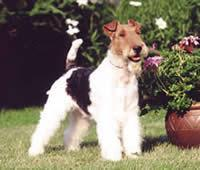wire-haired_fox_terrier: (28, 20, 148, 163)
